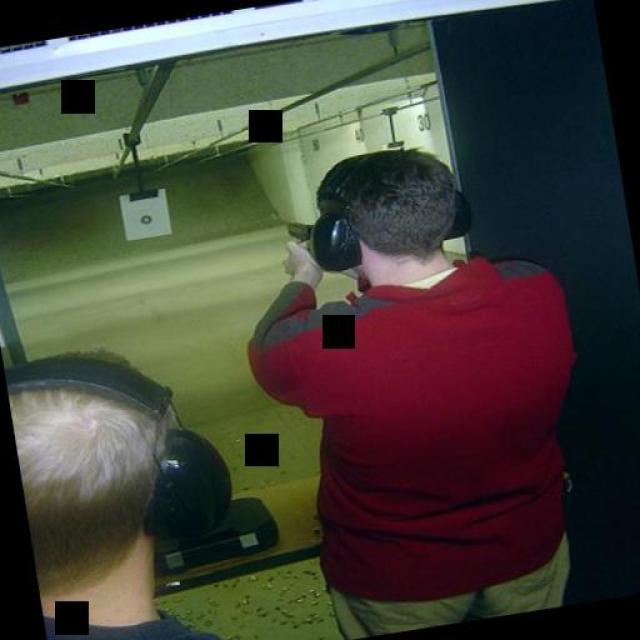gun: (280, 215, 318, 263)
